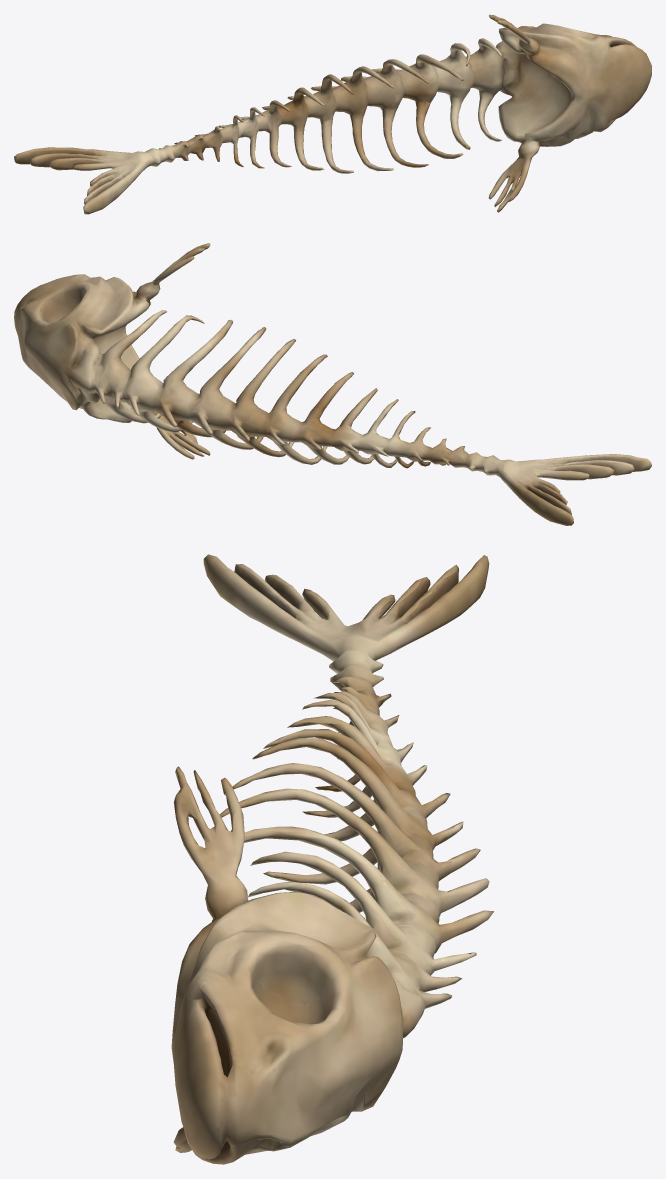
File: bone_whole_s.glb
The picture shows the model from 3 angles, top to bottom: view 1: azimuth 30°, elevation 25°; view 2: azimuth 150°, elevation 25°; view 3: azimuth 270°, elevation 25°; orthographic projection. The views are drawn at different scales.
Visible parts, largest first — view 1: bone_whole_s; view 2: bone_whole_s; view 3: bone_whole_s.
Part boxes in pixels (x1,y1,x2,y2): bone_whole_s: [14, 14, 651, 214]; bone_whole_s: [14, 243, 651, 525]; bone_whole_s: [171, 554, 493, 1164].
Bounding box in the file's own units: 0.3 × 0.0963 × 0.0735.
Materials: 1 (1 with a texture image).
